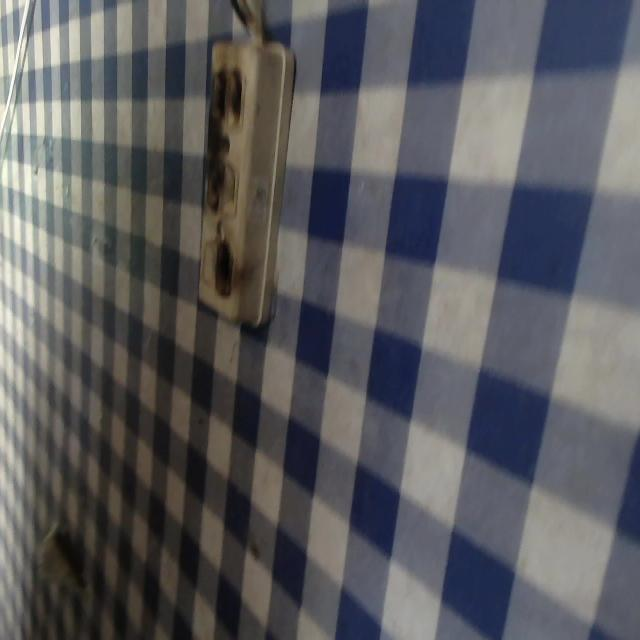-: (211, 65, 245, 128), (213, 239, 235, 300), (202, 155, 225, 212)
